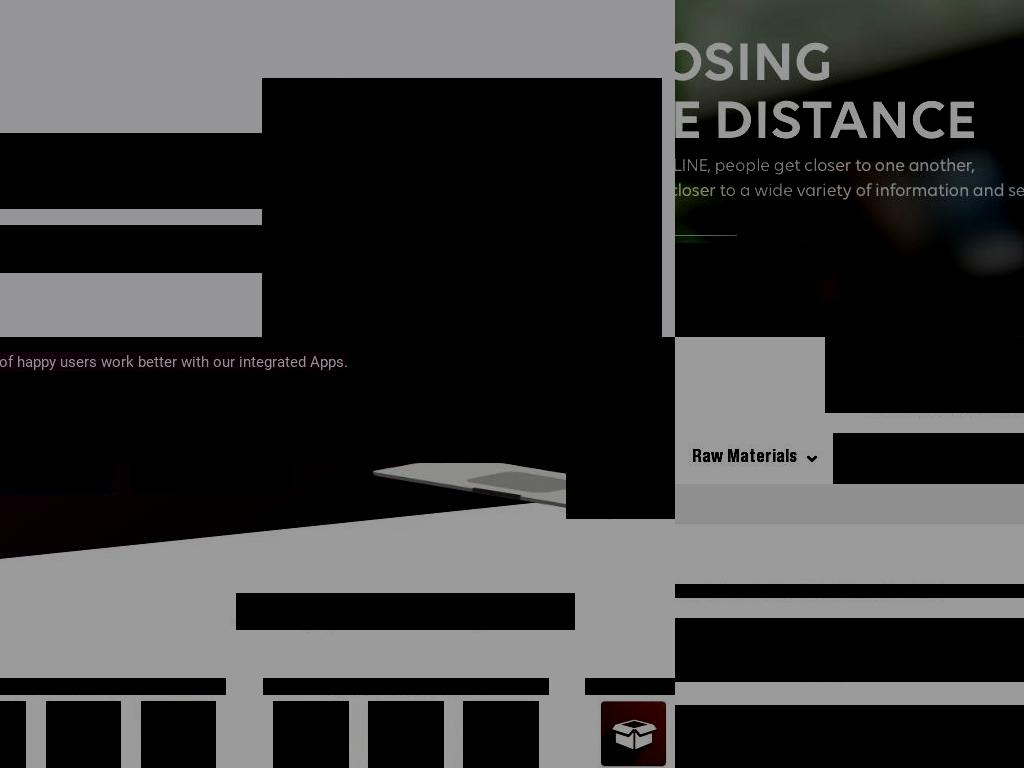button: (675, 433, 834, 484), (131, 450, 288, 492), (833, 433, 951, 484), (273, 701, 349, 768), (368, 701, 444, 768), (463, 701, 539, 768), (595, 701, 671, 768), (46, 701, 121, 768), (141, 701, 216, 768), (0, 449, 111, 493), (950, 433, 1024, 484), (721, 245, 831, 279), (675, 258, 736, 293), (675, 243, 733, 277), (0, 701, 26, 768), (675, 245, 714, 279)
heading: (0, 133, 262, 209), (347, 593, 575, 630), (675, 584, 1024, 598), (279, 593, 348, 630), (236, 593, 280, 630)
image: (262, 78, 662, 337), (0, 337, 675, 463), (566, 337, 675, 519), (825, 337, 1024, 413), (278, 701, 344, 766), (373, 701, 439, 766), (468, 701, 534, 766), (600, 701, 666, 766), (51, 701, 116, 766), (146, 701, 211, 766), (359, 337, 453, 359), (0, 701, 21, 766), (580, 404, 601, 425)
link: (45, 405, 176, 424), (127, 440, 261, 457), (127, 536, 241, 553), (127, 517, 217, 534), (314, 584, 400, 601), (314, 440, 399, 457), (314, 603, 389, 620), (0, 536, 72, 553), (0, 440, 71, 457), (314, 526, 384, 543), (0, 607, 66, 624), (127, 565, 192, 582), (127, 488, 182, 505), (314, 651, 368, 668), (127, 469, 179, 486), (314, 459, 365, 476), (359, 632, 407, 649), (0, 507, 45, 524), (314, 488, 358, 505), (415, 632, 453, 649), (314, 632, 351, 649), (314, 555, 346, 572), (314, 507, 344, 524), (376, 651, 403, 668), (0, 459, 23, 476), (0, 693, 22, 710)
text: (675, 618, 1024, 682), (675, 705, 1024, 768), (0, 225, 262, 273), (580, 461, 675, 539), (0, 352, 348, 371), (263, 678, 549, 695), (0, 337, 328, 350), (0, 678, 226, 695), (580, 566, 675, 602), (691, 450, 797, 467), (314, 405, 386, 427), (127, 405, 198, 427), (585, 678, 675, 695), (29, 461, 94, 481), (850, 450, 914, 467), (605, 405, 656, 422), (0, 405, 35, 427), (0, 572, 33, 594), (0, 405, 37, 424), (967, 450, 1007, 467), (0, 461, 29, 481), (350, 632, 360, 649), (406, 632, 416, 649), (367, 651, 377, 668)
